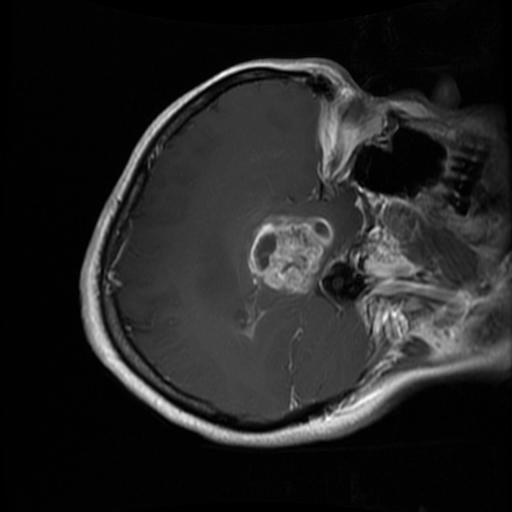glioma: (247, 214, 333, 295)
